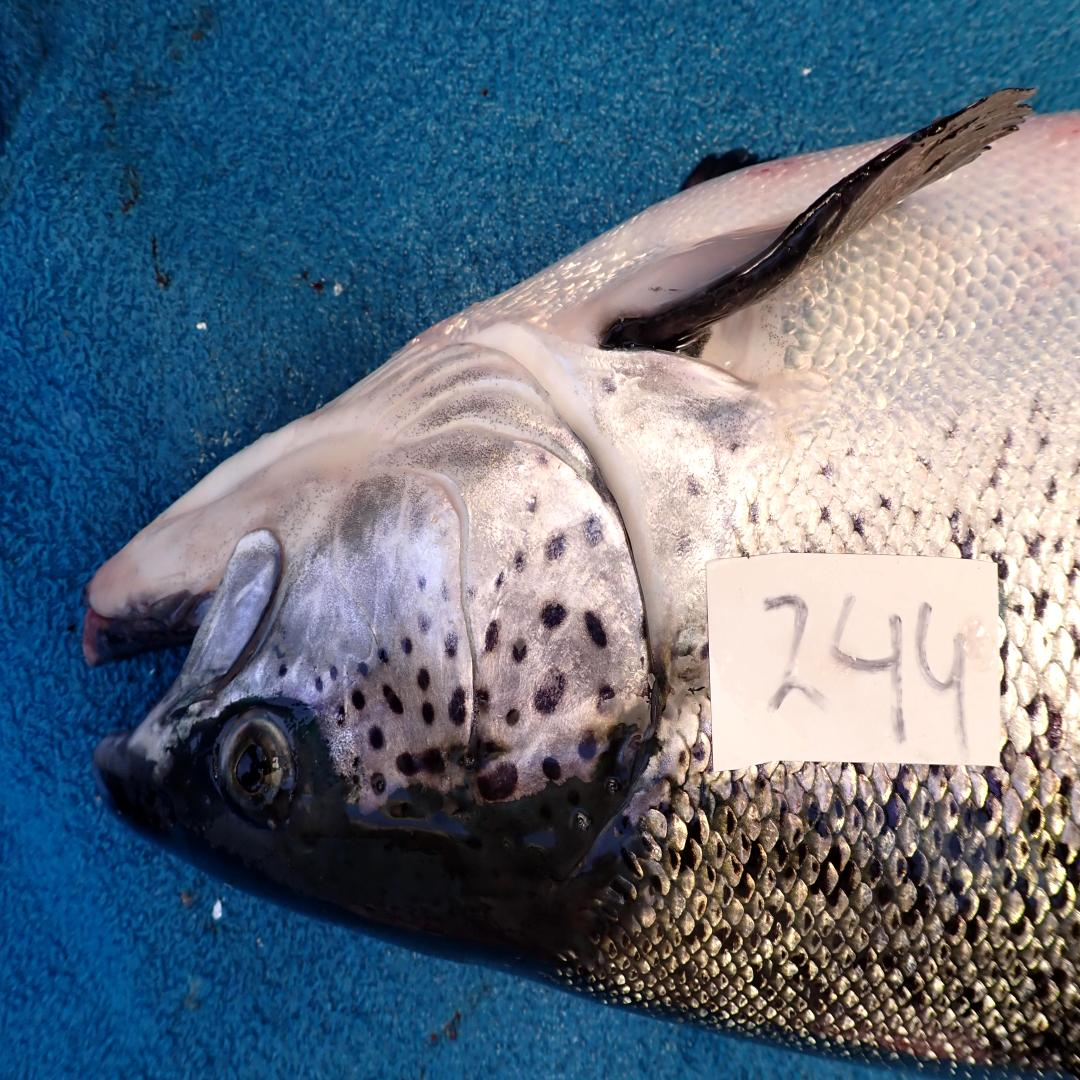spot: (477, 762, 517, 802), (534, 669, 565, 714), (584, 610, 608, 647), (413, 748, 445, 773), (447, 686, 466, 726), (540, 602, 567, 630), (578, 728, 599, 759), (369, 771, 388, 804), (597, 683, 616, 714), (384, 683, 403, 714), (331, 700, 352, 728), (544, 534, 565, 560), (367, 723, 386, 751), (586, 515, 603, 546), (397, 751, 418, 776), (464, 579, 481, 608), (542, 757, 561, 782), (485, 622, 500, 652), (378, 641, 397, 664), (477, 686, 491, 717), (513, 548, 527, 574), (422, 700, 435, 726), (445, 633, 458, 658), (513, 641, 527, 664), (418, 610, 432, 633), (418, 669, 430, 692), (352, 689, 365, 709), (506, 709, 521, 726), (494, 571, 506, 591), (401, 636, 413, 655), (356, 661, 369, 678), (418, 574, 428, 591), (440, 580, 448, 600), (314, 675, 323, 692), (329, 665, 338, 680), (278, 664, 287, 678), (352, 757, 359, 770)
